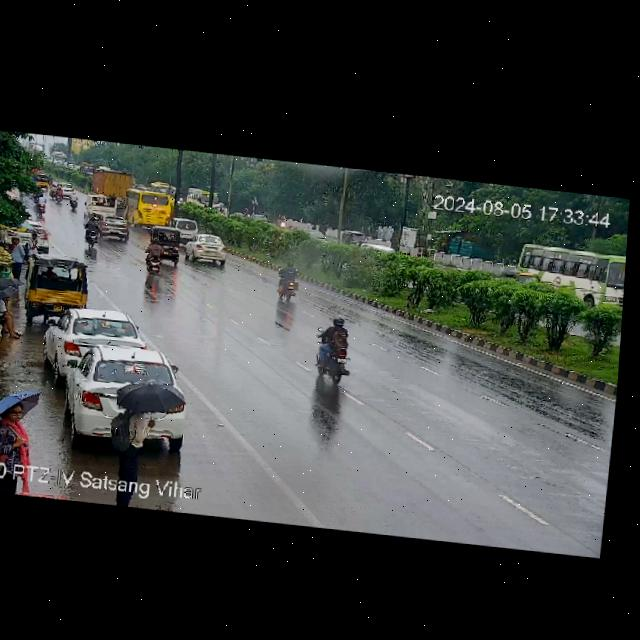bus: (508, 240, 627, 313)
car: (60, 342, 180, 422), (43, 305, 144, 374), (23, 253, 94, 318), (122, 185, 175, 228), (0, 218, 59, 254), (181, 230, 232, 268), (149, 224, 182, 265), (98, 214, 130, 242), (167, 217, 200, 239), (35, 173, 50, 188), (62, 182, 73, 195)
motorcycle: (310, 316, 361, 388), (267, 260, 307, 304), (144, 237, 162, 277), (83, 215, 99, 247), (47, 182, 65, 202), (34, 193, 47, 214), (68, 191, 80, 212)
person: (101, 378, 161, 478), (0, 395, 34, 462), (0, 287, 28, 341), (6, 233, 26, 280), (27, 232, 40, 253)
truck: (89, 167, 134, 201), (84, 188, 119, 216)
